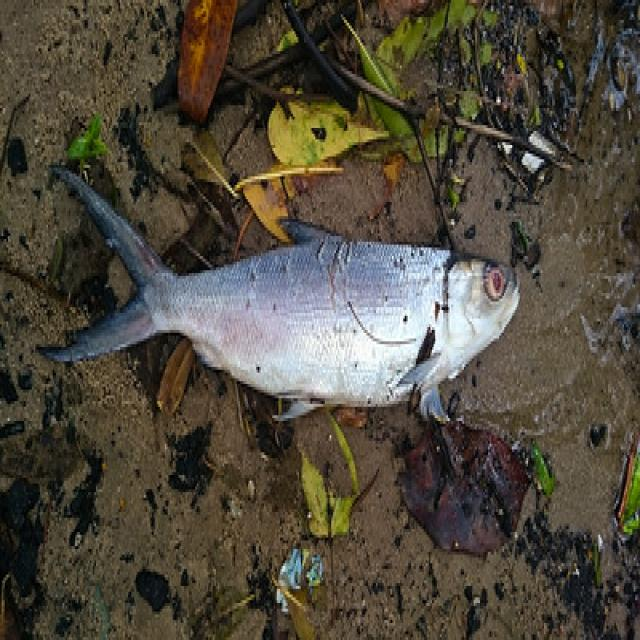Bangus: (56, 109, 506, 438)
